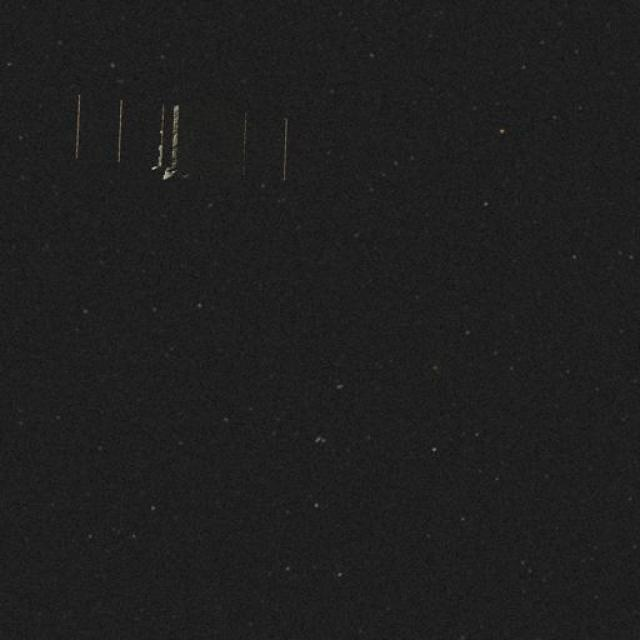soho: (37, 74, 332, 228)
